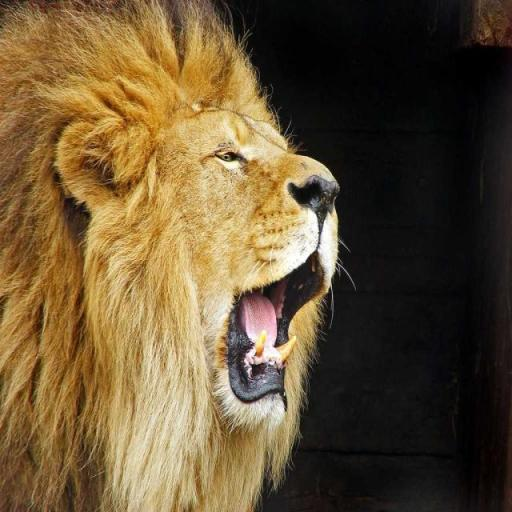Lion: (0, 0, 354, 510)
